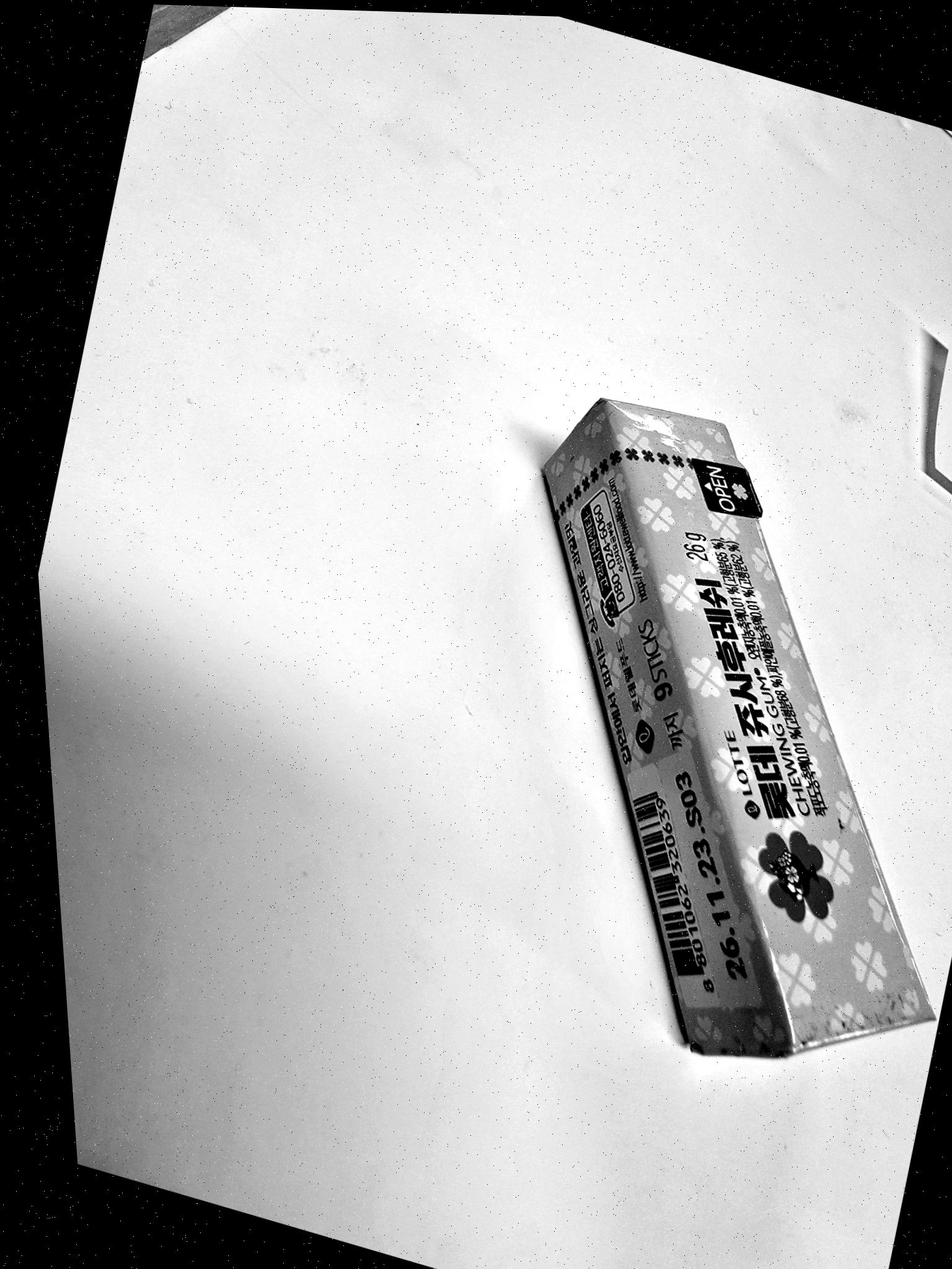gum_yellow: (545, 398, 932, 1057)
